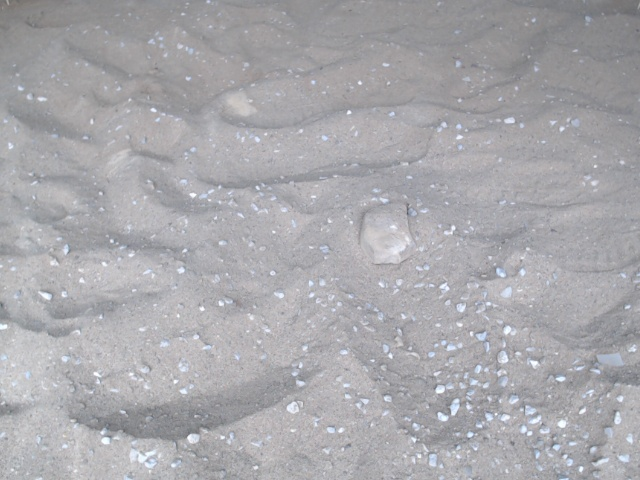rock: (354, 193, 424, 271)
